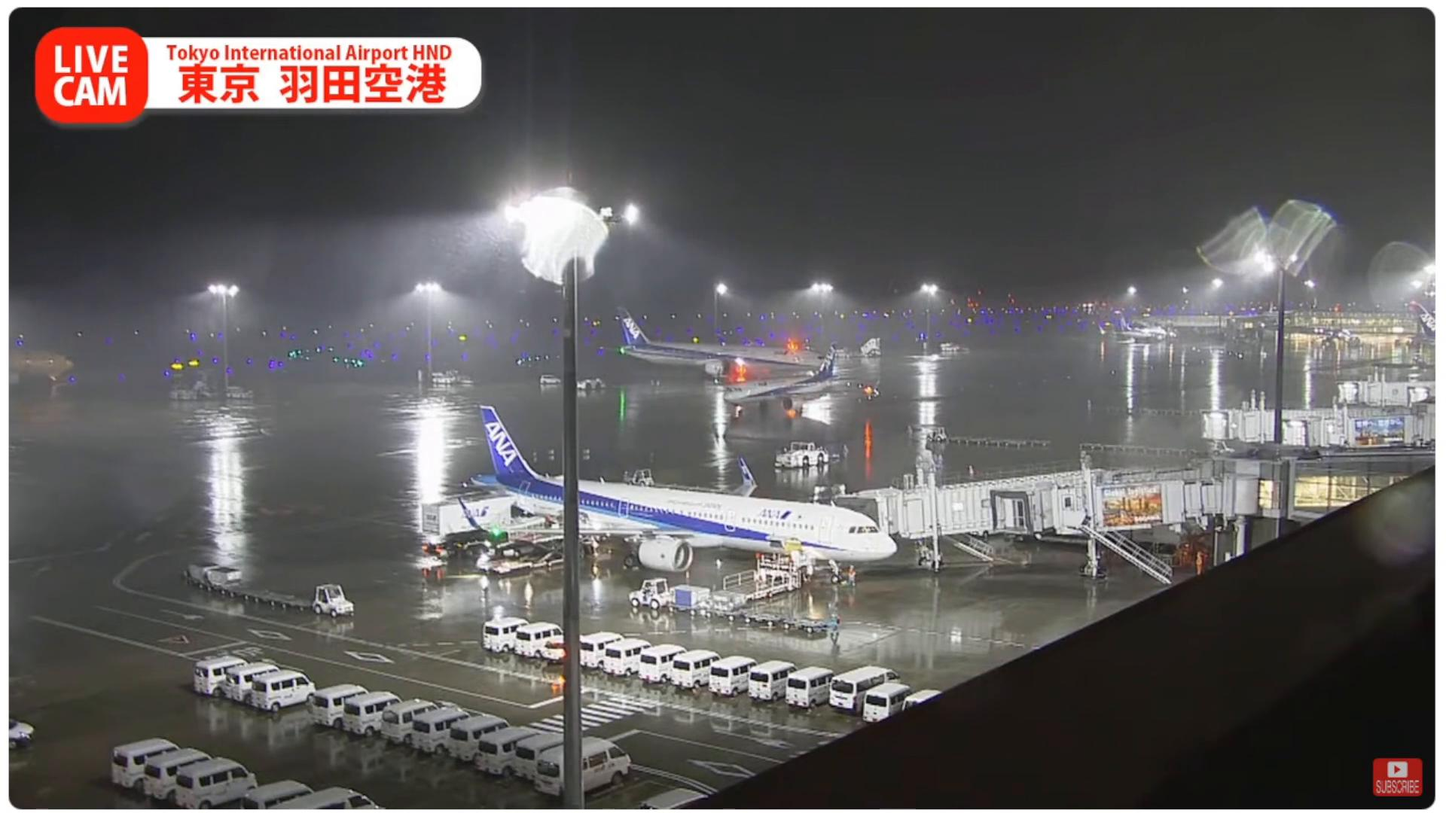Aerobridge: (837, 461, 1193, 540), (988, 473, 1227, 539)
Airplane: (461, 407, 899, 586)
Catering: (421, 483, 529, 555)
Dolly: (666, 583, 841, 635), (186, 560, 313, 613)
JCPL: (692, 533, 821, 610)
Skyloader: (472, 515, 563, 576)
Tractor: (310, 583, 356, 618), (629, 577, 670, 610)
Window: (1289, 476, 1414, 509)
